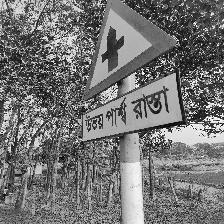Crossroad: (59, 0, 222, 144)
